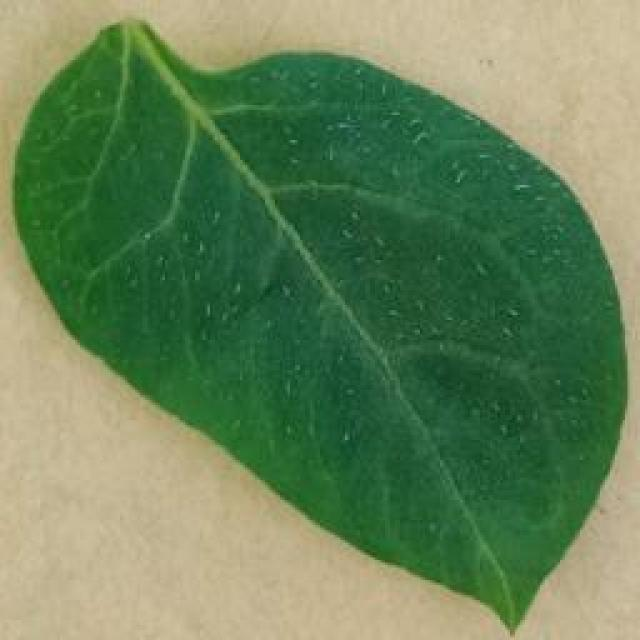Potato_Healthy: (12, 19, 618, 635)
